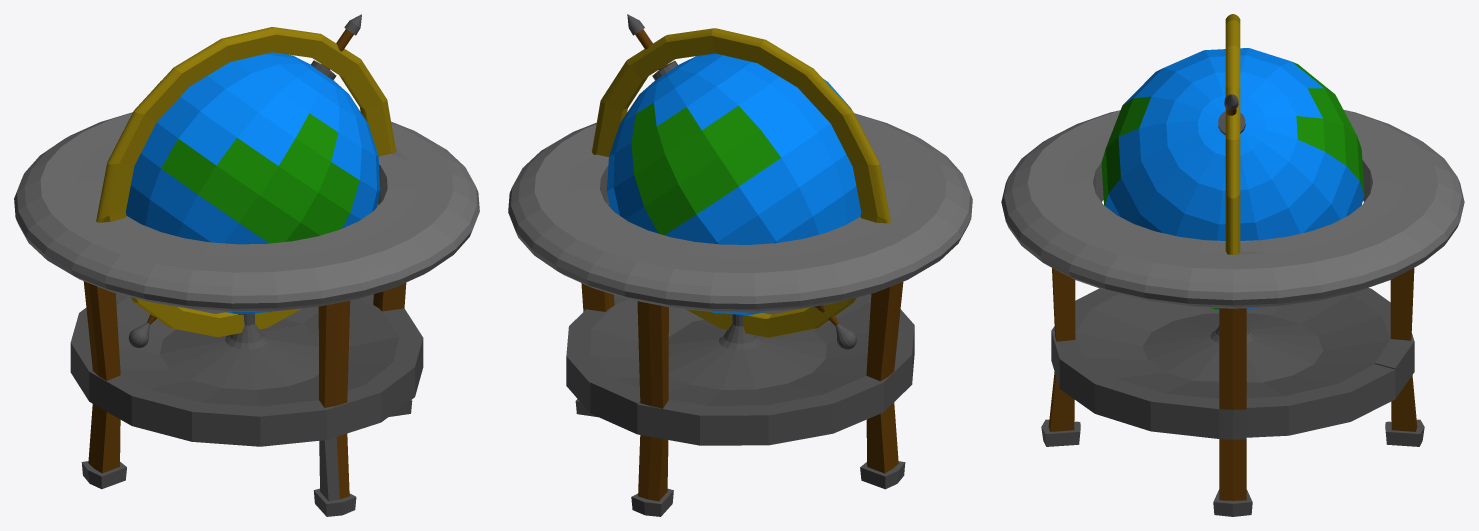
File: ObjectsForThereWFR(Globe).fbx
The picture shows the model from 3 angles, left to right: view 1: azimuth 30°, elevation 25°; view 2: azimuth 150°, elevation 25°; view 3: azimuth 270°, elevation 25°; orthographic projection.
Visible parts, largest first — view 1: finalCopyGlobe; view 2: finalCopyGlobe; view 3: finalCopyGlobe.
Part boxes in pixels (x1,y1,x2,y2): finalCopyGlobe: (14, 14, 479, 516); finalCopyGlobe: (508, 14, 972, 516); finalCopyGlobe: (1001, 14, 1464, 516).
Size of the model in its own units: 631 by 615 by 631.
